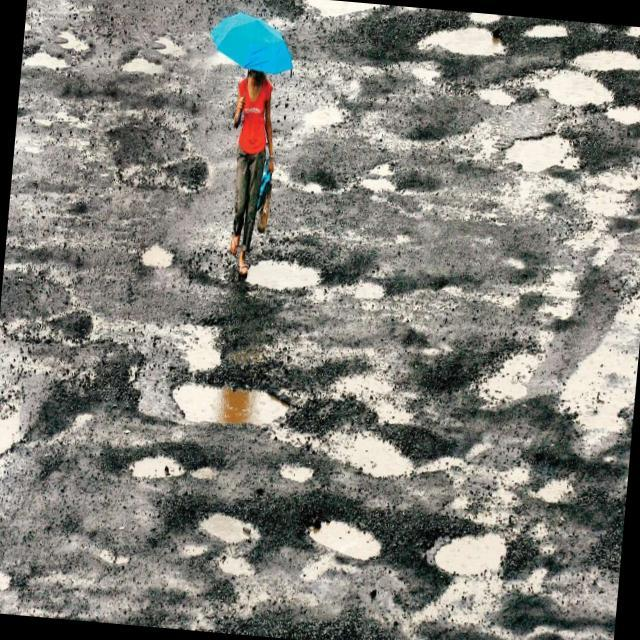Pothole: (288, 386, 436, 504), (414, 496, 540, 599), (312, 340, 434, 434), (456, 318, 549, 434), (292, 484, 396, 586), (160, 358, 294, 437), (232, 229, 332, 315), (494, 111, 591, 190), (182, 490, 274, 560), (522, 61, 622, 118), (320, 249, 400, 317), (416, 18, 512, 73), (521, 456, 587, 534), (116, 432, 190, 496), (294, 82, 354, 150), (569, 35, 640, 91), (287, 148, 345, 214), (467, 67, 526, 121), (286, 0, 396, 26), (512, 544, 553, 610), (350, 151, 402, 202), (273, 444, 319, 498), (112, 46, 172, 87), (134, 226, 182, 276), (602, 81, 640, 144), (23, 40, 70, 86), (394, 168, 439, 212), (54, 18, 104, 56), (148, 18, 190, 62), (90, 534, 136, 574), (185, 443, 216, 493), (522, 18, 574, 44), (464, 12, 508, 29), (0, 552, 14, 603), (619, 25, 640, 55)
